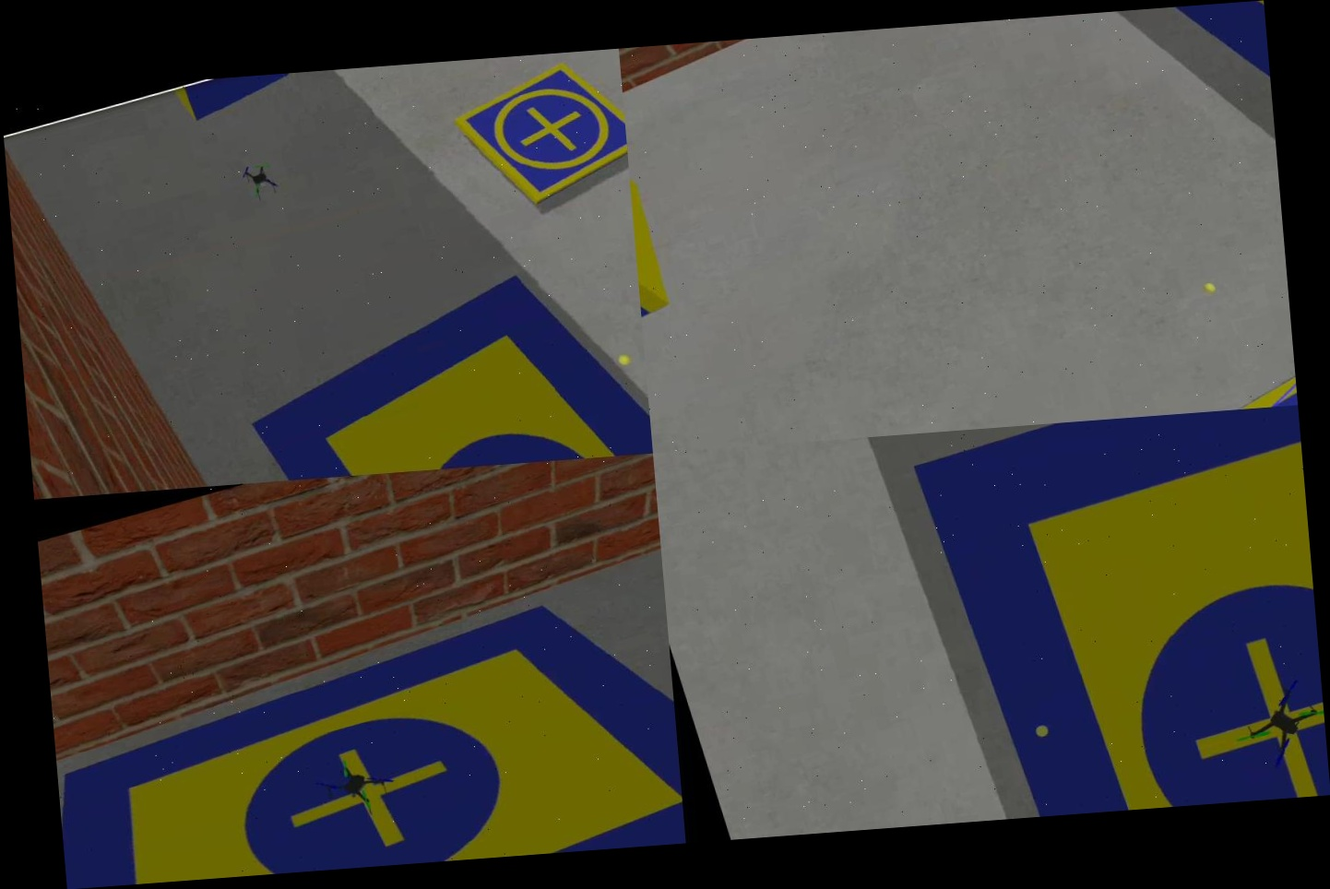large_base: (42, 545, 686, 889), (909, 405, 1330, 824), (219, 221, 653, 484), (1064, 0, 1284, 261)
small_base: (445, 49, 632, 219)
